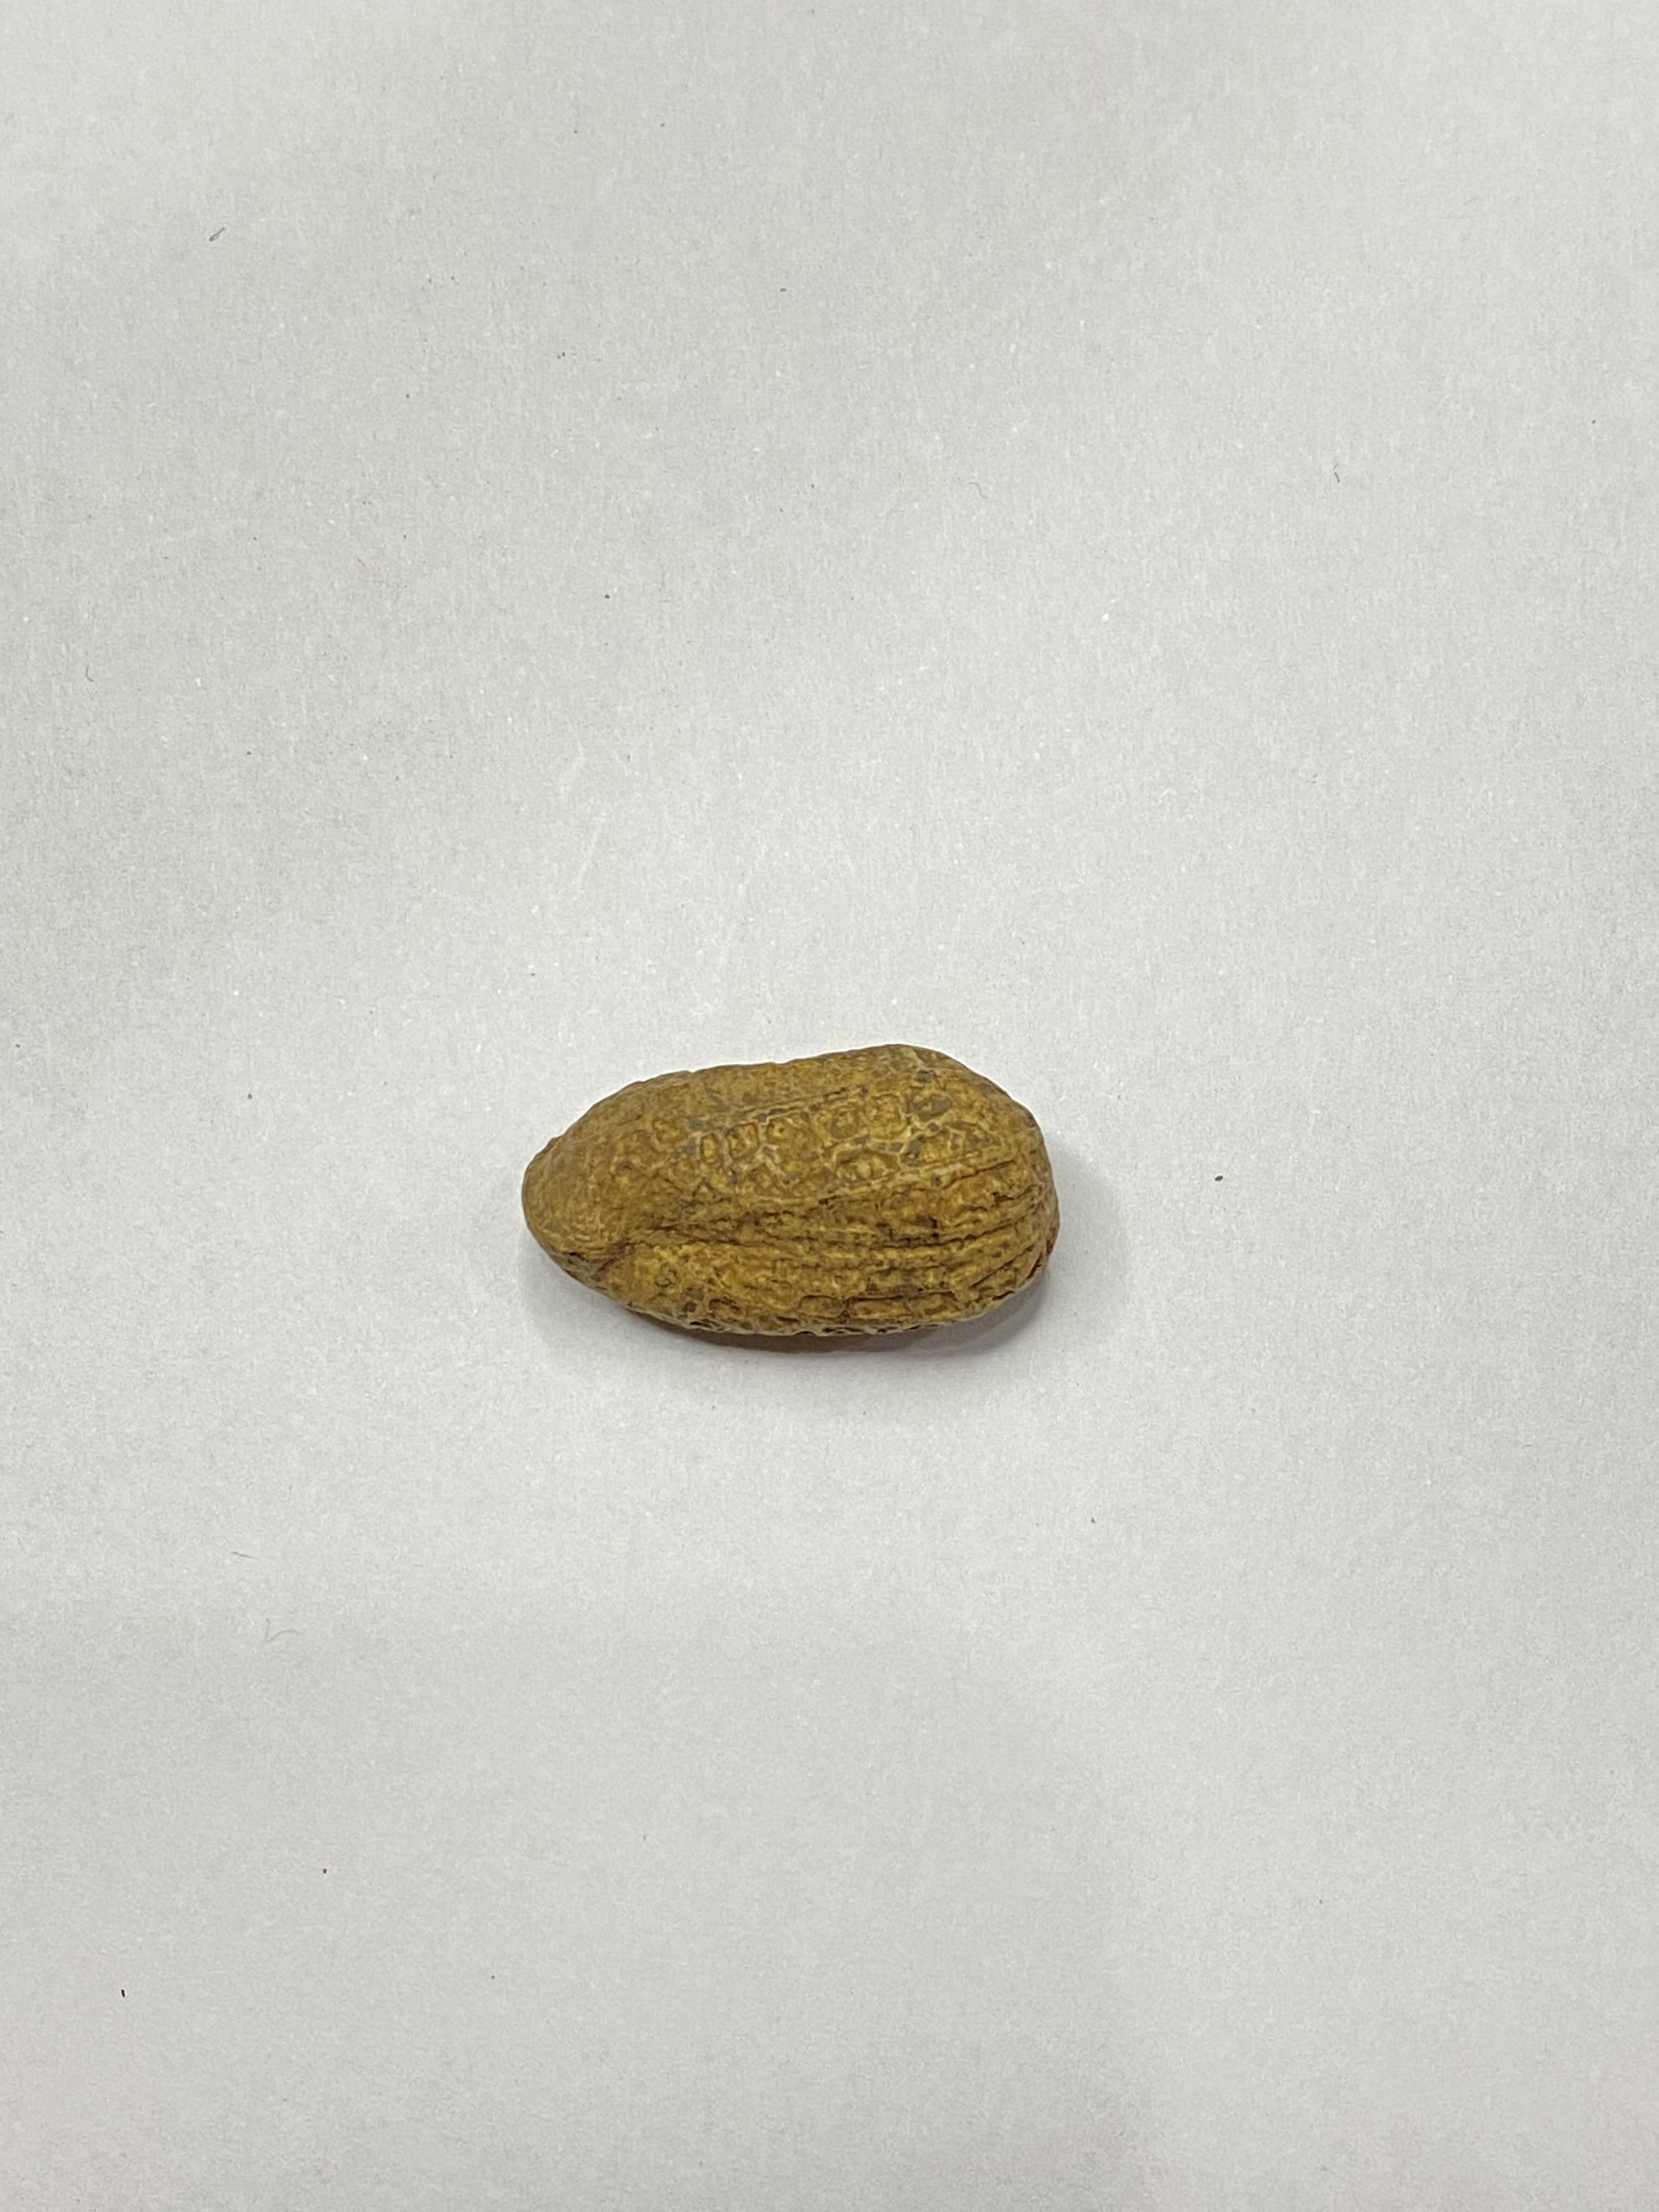kacang1: (460, 970, 1161, 1374)
